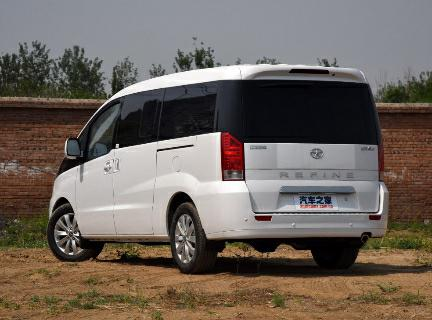江淮-瑞风M5: (43, 63, 395, 274)
